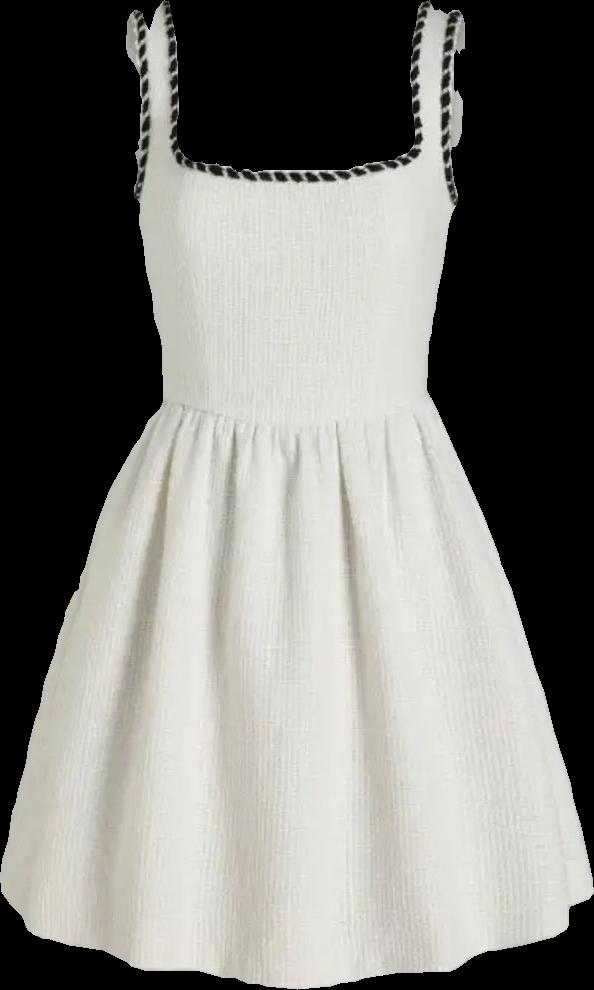Bodice: (126, 0, 464, 434)
Hemline: (0, 877, 593, 989)
Neckline: (159, 0, 435, 183)
Skirt: (1, 398, 592, 987)
Waistline: (162, 392, 432, 440)
